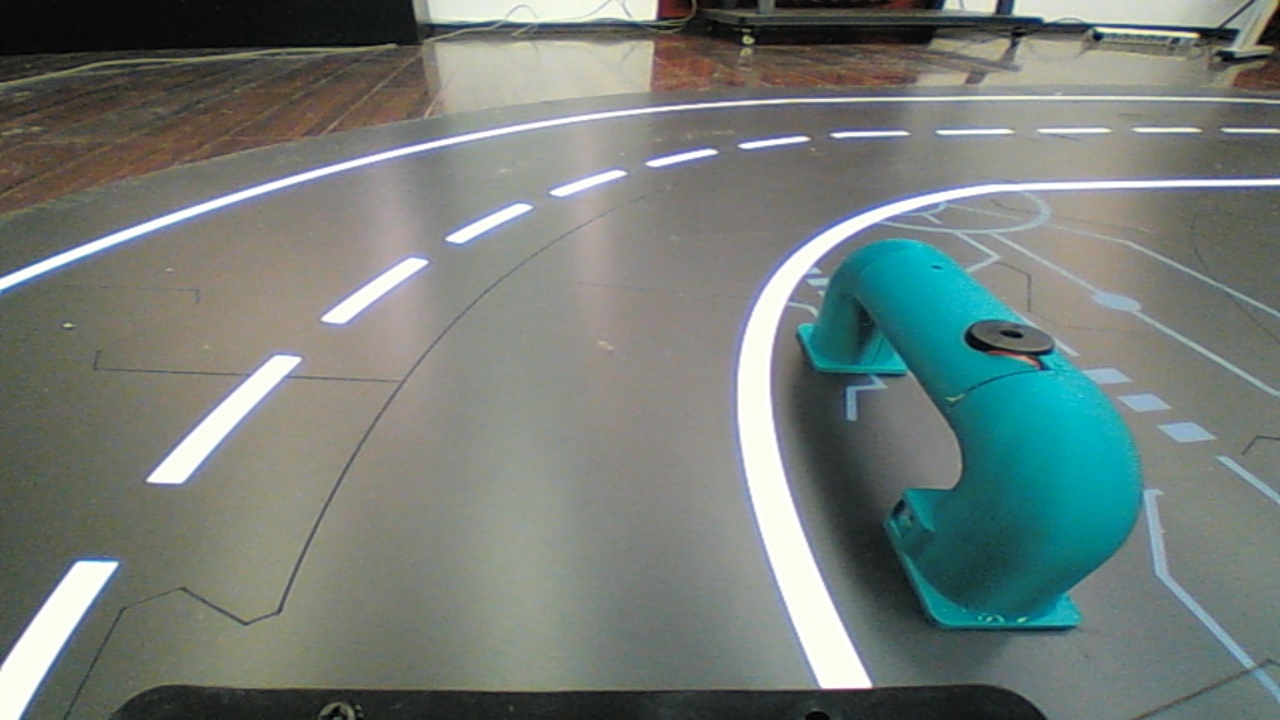Pedestrian crossing: (788, 210, 1149, 645)
